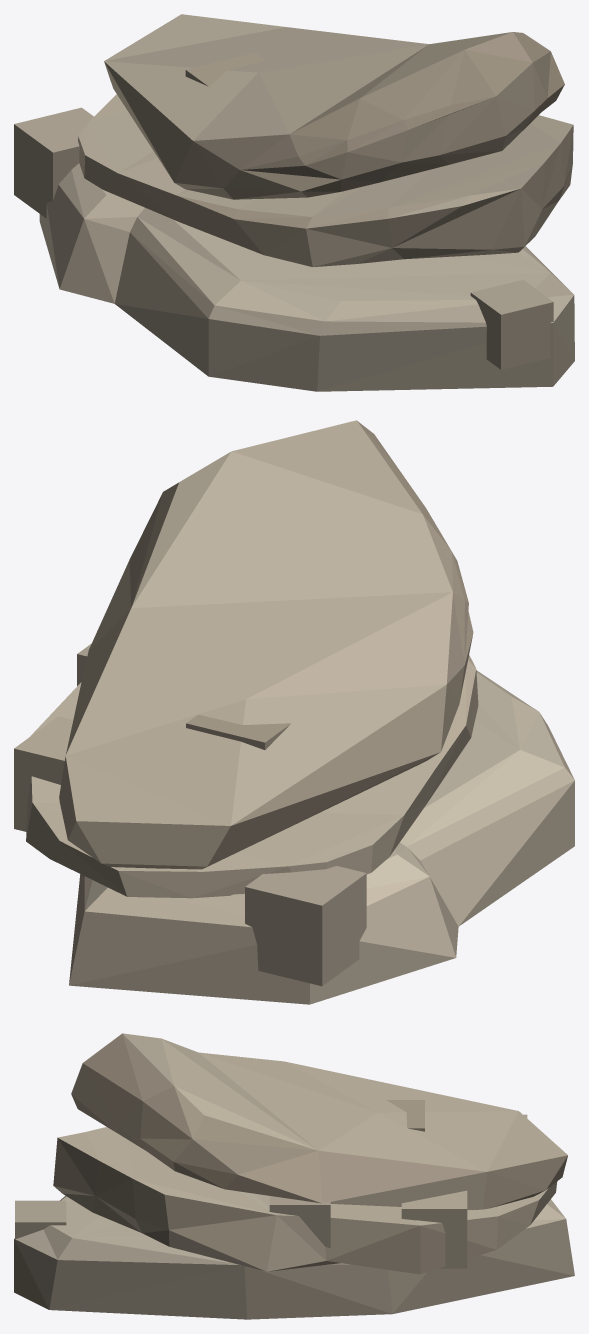
Rendered from rock_sand_01e.glb.
The picture shows the model from 3 angles, top to bottom: view 1: azimuth 30°, elevation 25°; view 2: azimuth 150°, elevation 25°; view 3: azimuth 270°, elevation 25°; orthographic projection. The views are drawn at different scales.
Visible parts, largest first — view 1: mapa.roca.env_rock_sand_01e; view 2: mapa.roca.env_rock_sand_01e; view 3: mapa.roca.env_rock_sand_01e.
Boxes of the visible parts, bbox=[...] form: mapa.roca.env_rock_sand_01e: bbox=[14, 14, 574, 391]; mapa.roca.env_rock_sand_01e: bbox=[14, 420, 574, 1004]; mapa.roca.env_rock_sand_01e: bbox=[14, 1033, 574, 1319].
Size of the model in its own units: 6.48 by 4.63 by 9.35.
